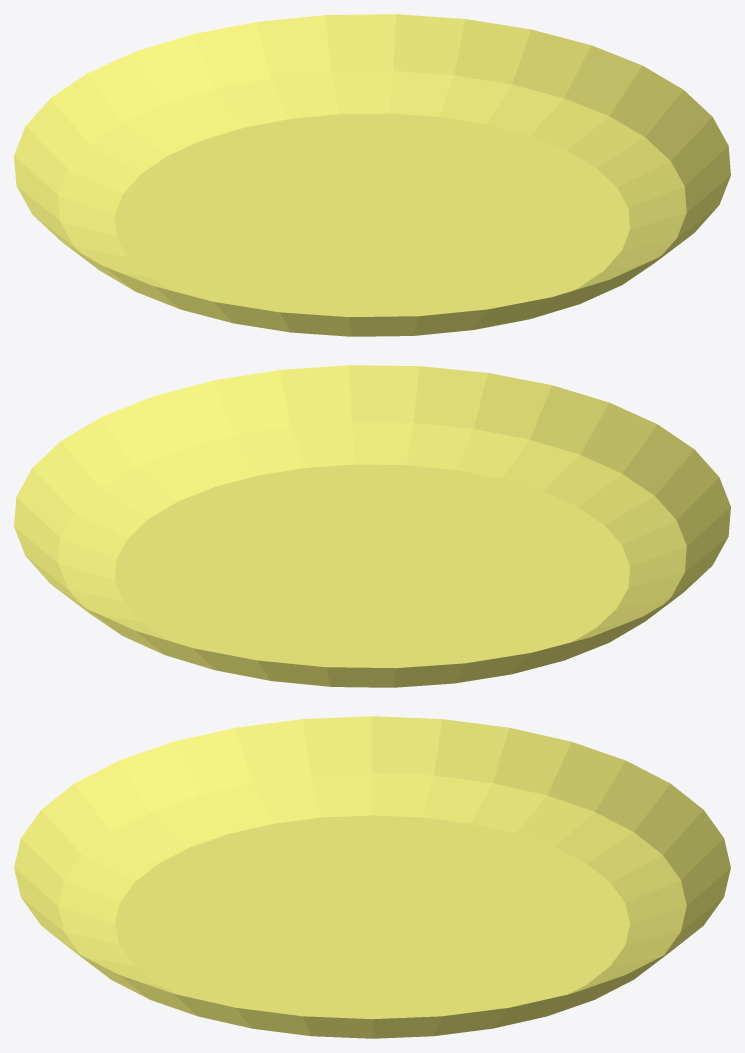
The model's file is platotaza.glb.
The picture shows the model from 3 angles, top to bottom: view 1: azimuth 30°, elevation 25°; view 2: azimuth 150°, elevation 25°; view 3: azimuth 270°, elevation 25°; orthographic projection.
Visible parts, largest first — view 1: plato taza; view 2: plato taza; view 3: plato taza.
Boxes of the visible parts, x1,y1,x2,y2 form: plato taza: [14, 14, 730, 336]; plato taza: [14, 365, 730, 687]; plato taza: [14, 716, 730, 1038].
Bounding box in the file's own units: 1.45 × 0.1262 × 1.45.
